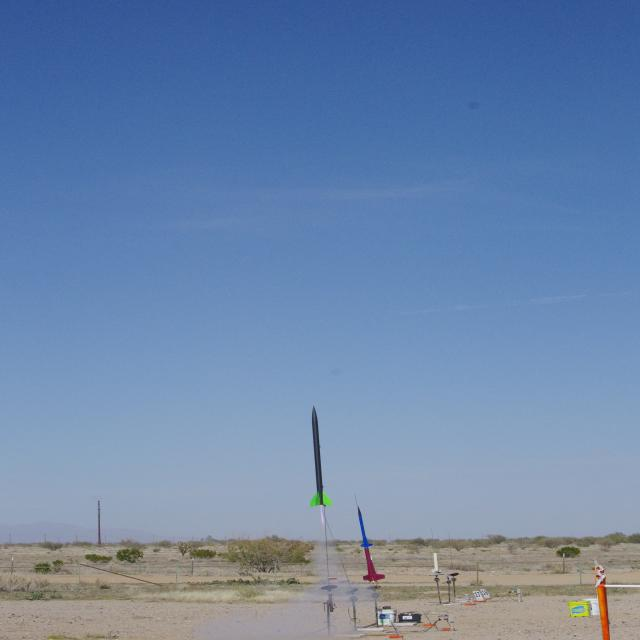Rocket: (308, 405, 334, 507), (357, 506, 386, 582), (430, 552, 442, 573)
